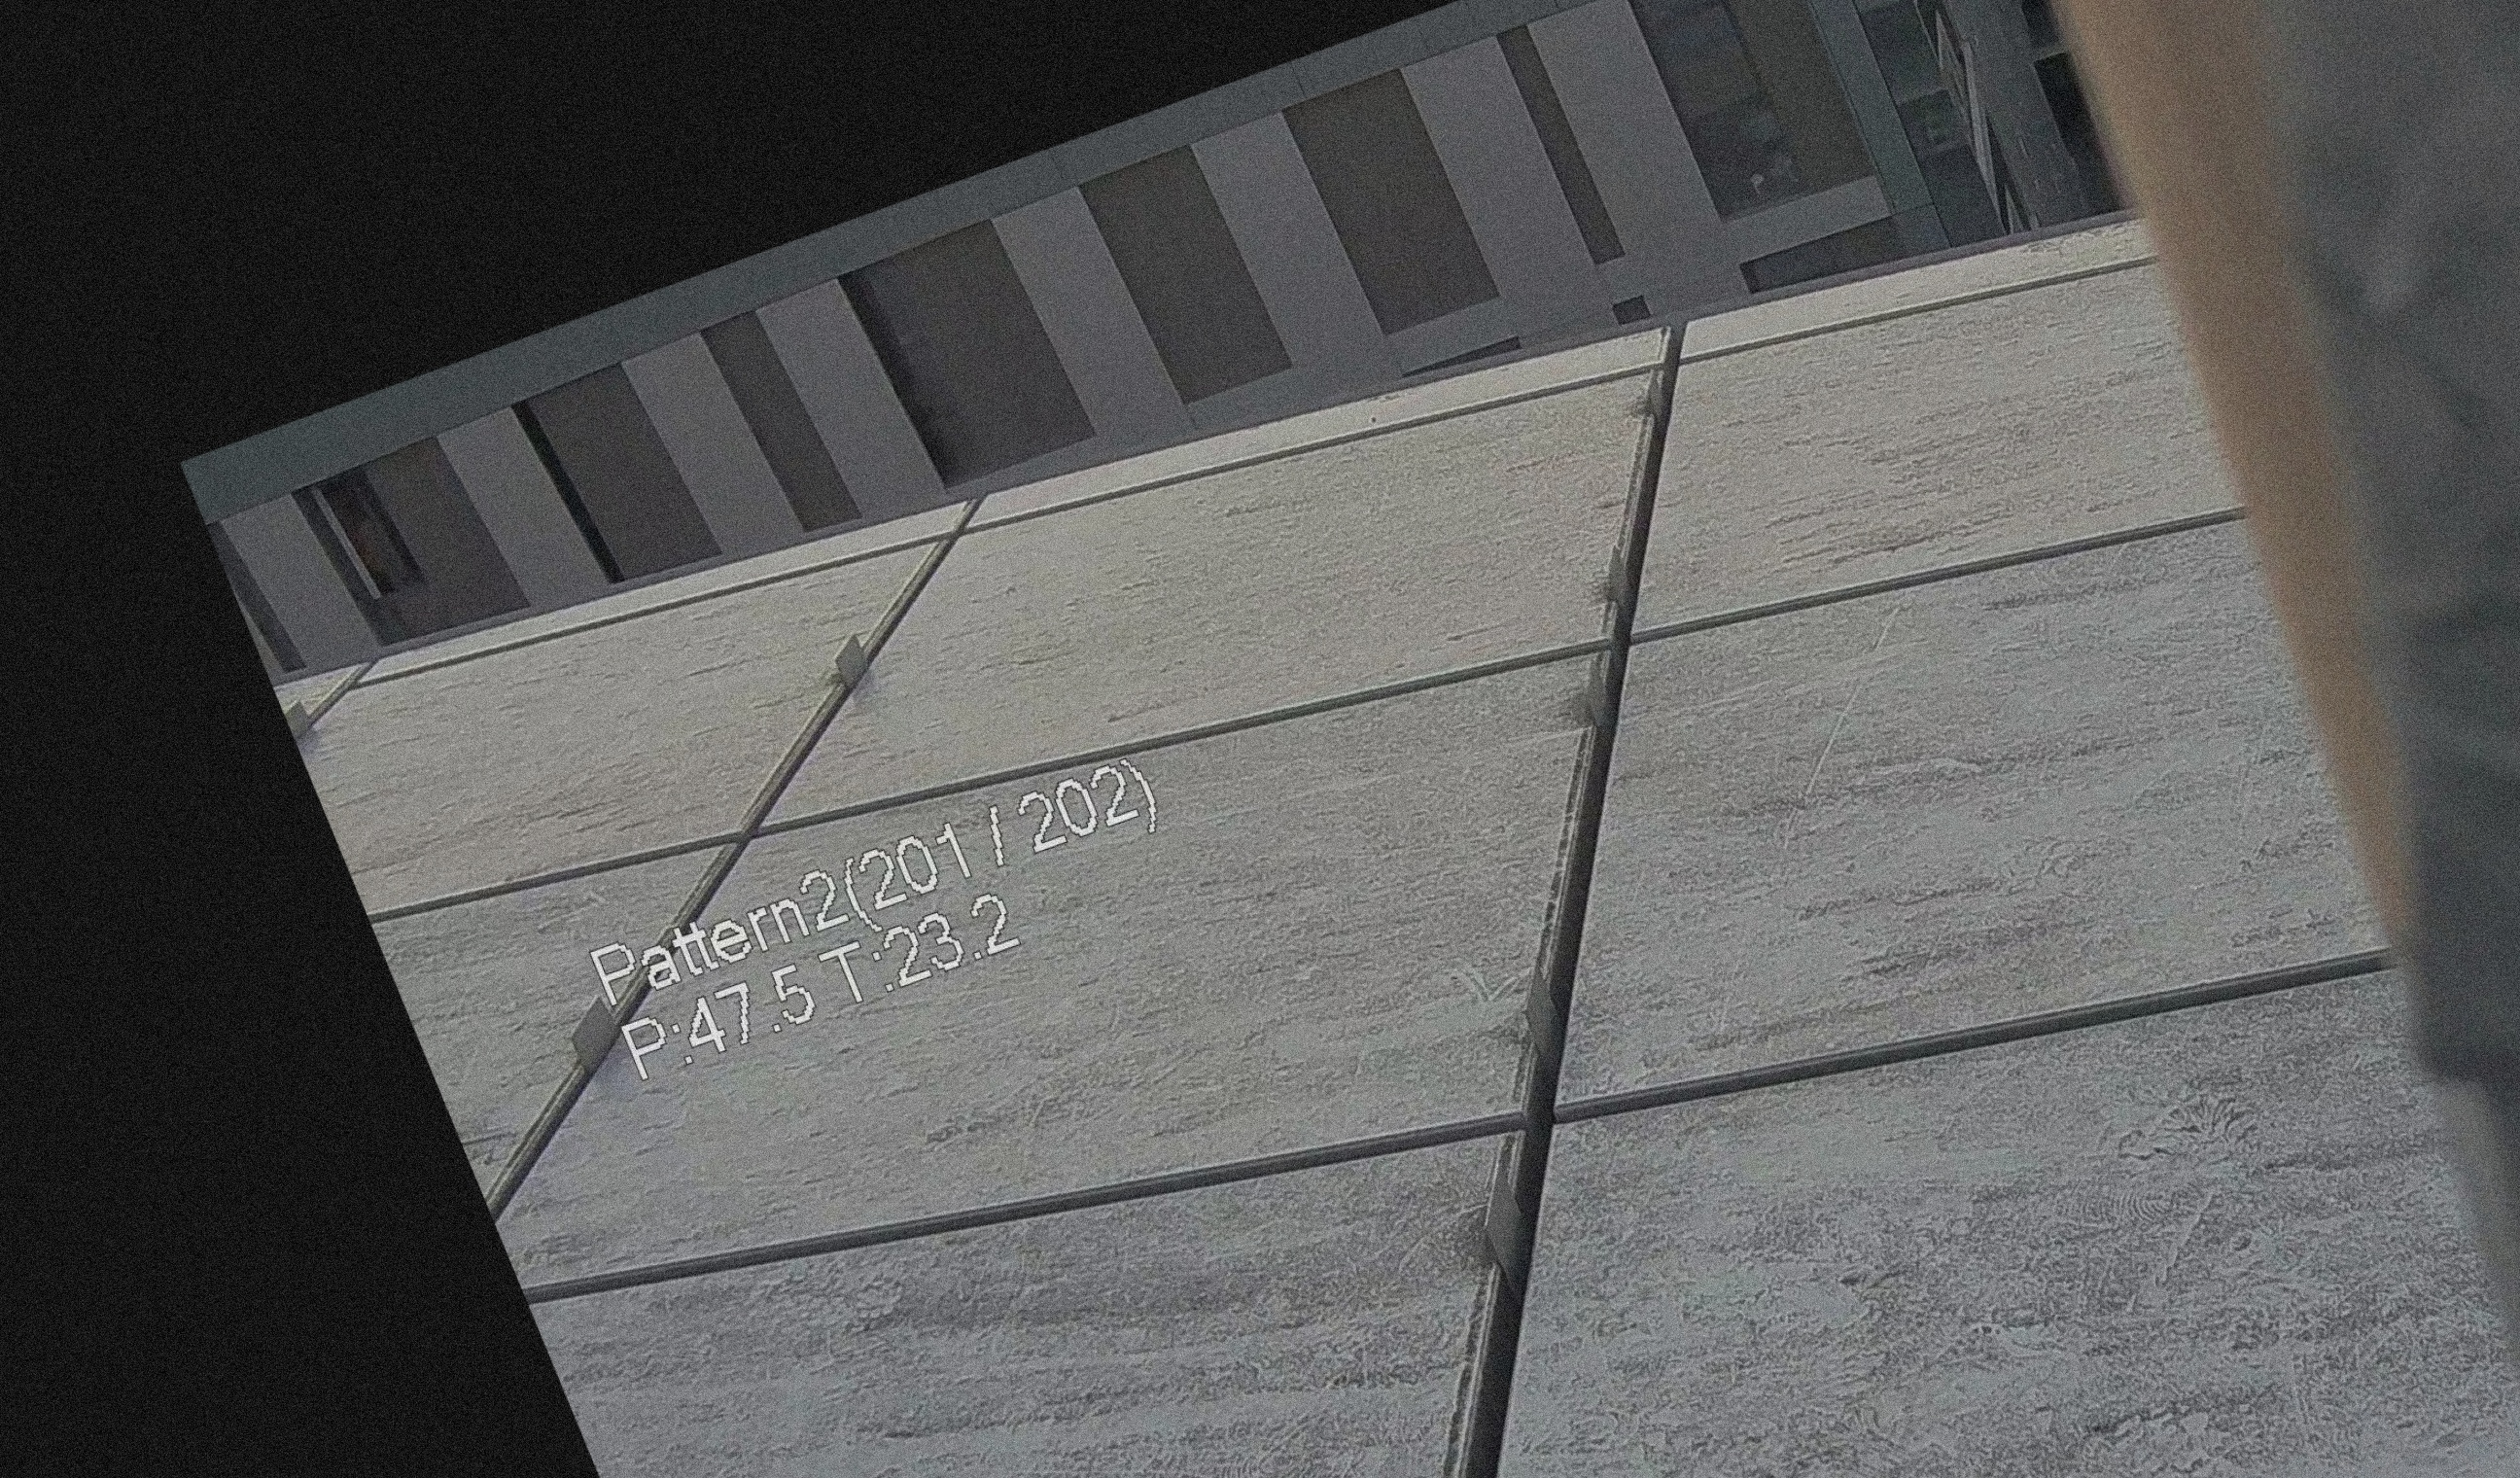Other: (1910, 0, 2520, 1478)
